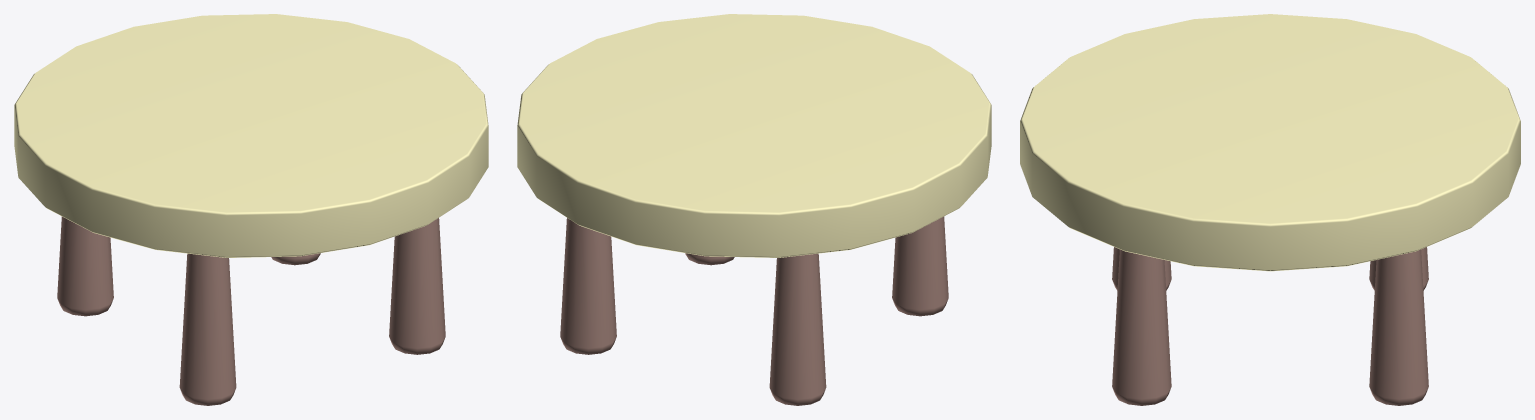
Rendered from Town_10_Table_1.glb.
3 renders of one model, left to right at view 1: azimuth 30°, elevation 25°; view 2: azimuth 150°, elevation 25°; view 3: azimuth 270°, elevation 25°, orthographic. The views are drawn at different scales.
Visible parts, largest first — view 1: Town_10_Table_1; view 2: Town_10_Table_1; view 3: Town_10_Table_1.
Part boxes in pixels (x1,y1,x2,y2): Town_10_Table_1: [14, 14, 488, 405]; Town_10_Table_1: [517, 14, 991, 405]; Town_10_Table_1: [1020, 14, 1520, 405].
Bounding box in the file's own units: 1.73 × 0.8611 × 1.73.
1 material, 1 textured.
